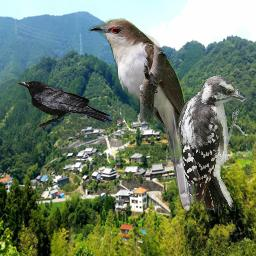Crow: (17, 80, 113, 129)
Cuckoo: (87, 18, 192, 213)
Woodpecker: (178, 75, 249, 214)
